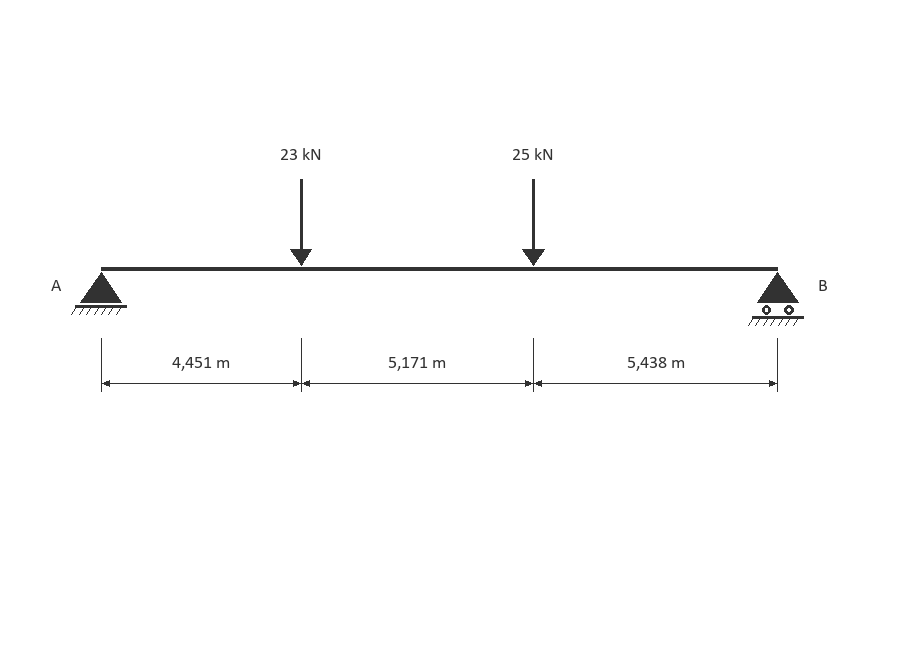pin_support: (71, 272, 127, 315)
point_load: (522, 179, 545, 266), (290, 179, 312, 266)
roller_support: (748, 272, 804, 326)
